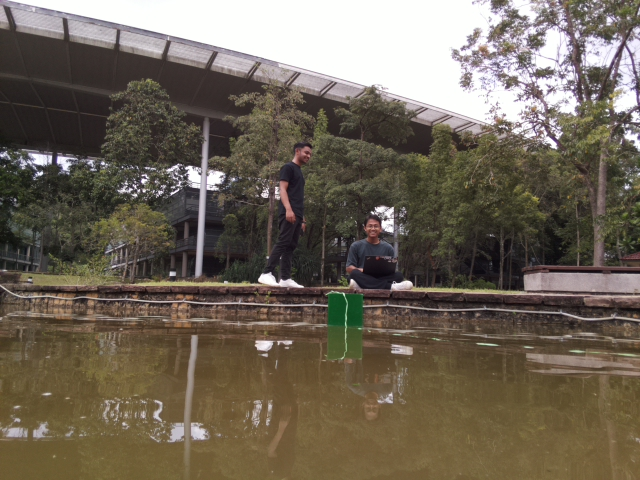obstacle: (327, 292, 364, 326)
